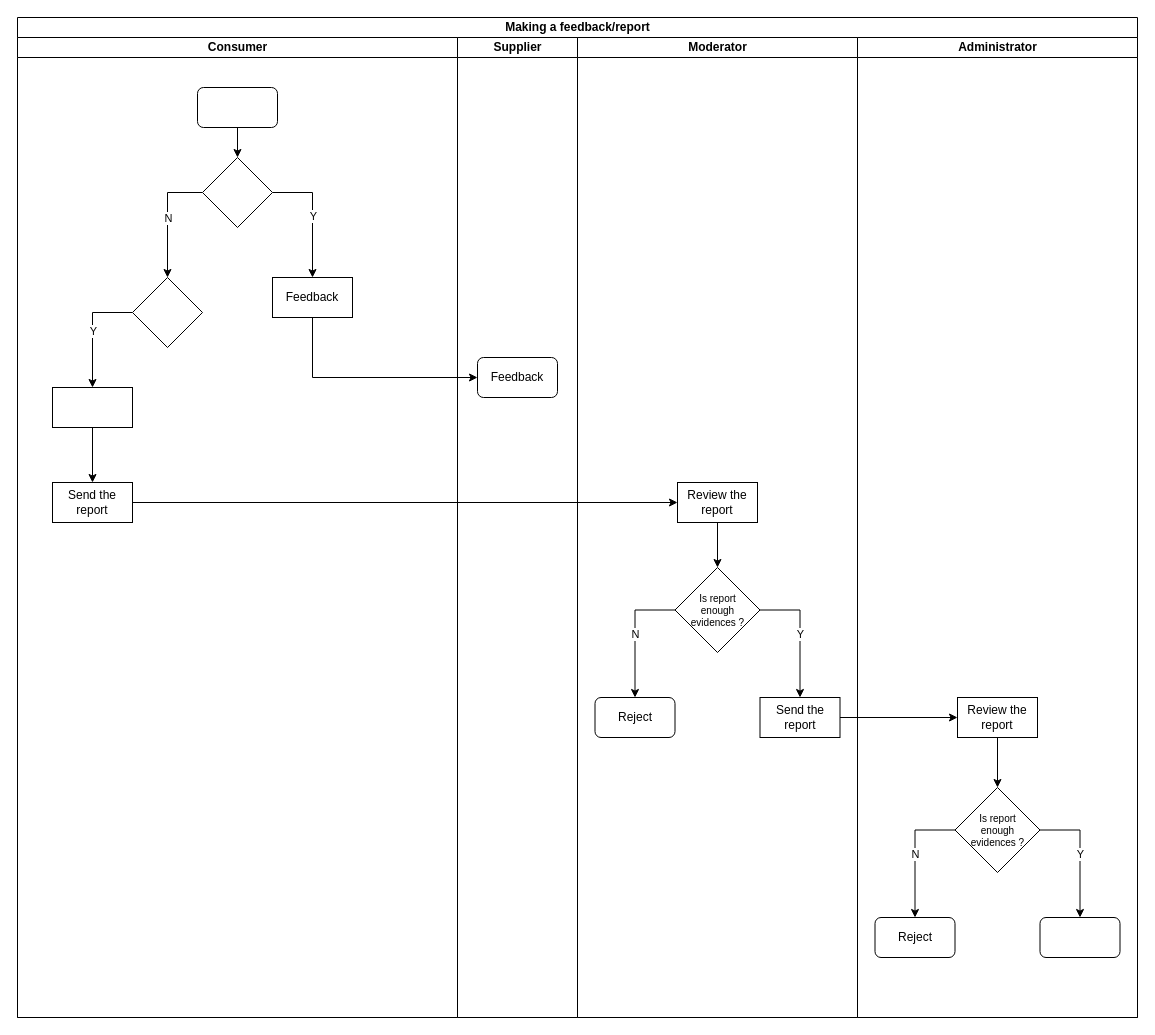
Some shapes in this 1155 by 1035 pixel diagram are drawn without their labels. Here are the shapes that lost their labels. From the top down, the centre of each, then its label:
At [237,107]: "Check the goods".
At [237,192]: "Want to feedback ?".
At [167,312]: "Want to report ?".
At [92,407]: "Compose the report's information".
At [1079,937]: "Punish violators".
